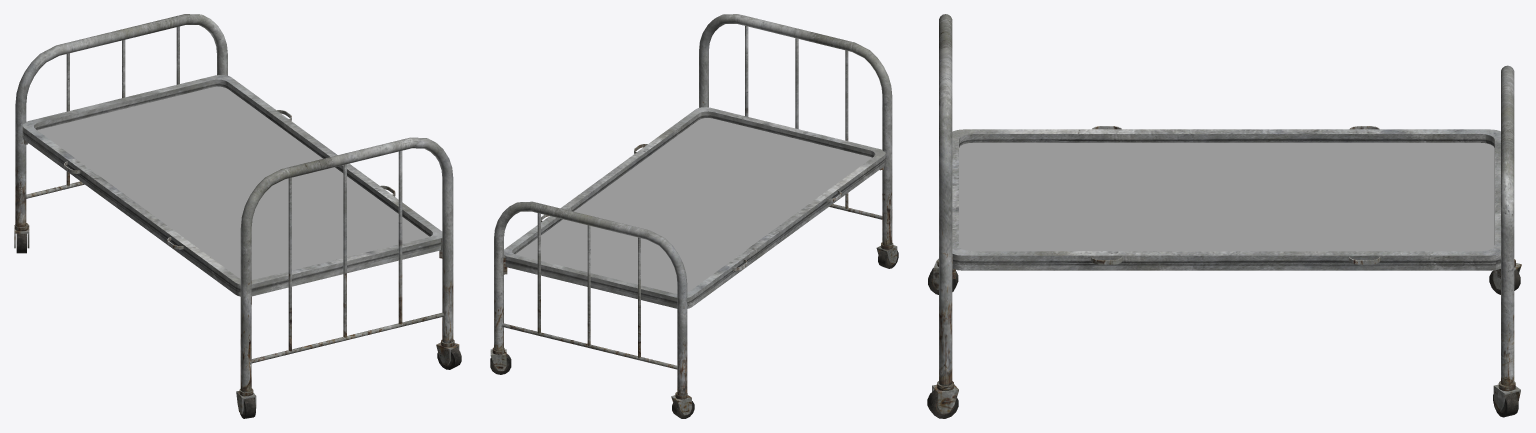
The model's file is Bed.fbx.
3 renders of one model, left to right at view 1: azimuth 30°, elevation 25°; view 2: azimuth 150°, elevation 25°; view 3: azimuth 270°, elevation 25°, orthographic. The views are drawn at different scales.
Parts seen in each view (by area): view 1: Bed; view 2: Bed; view 3: Bed.
Part boxes in pixels (bbox=[...]): Bed: bbox=[14, 14, 461, 418]; Bed: bbox=[490, 14, 898, 418]; Bed: bbox=[927, 14, 1521, 418].
Bounding box in the file's own units: 1.71 × 1.75 × 3.17.
